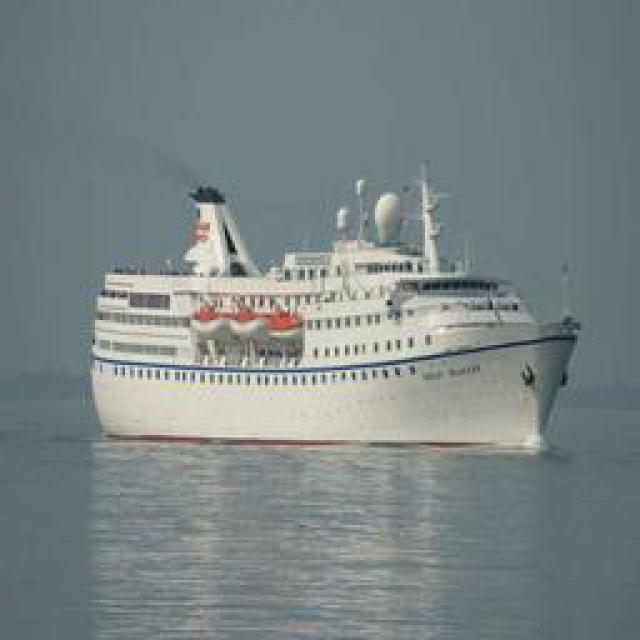Ship: (88, 168, 586, 443)
